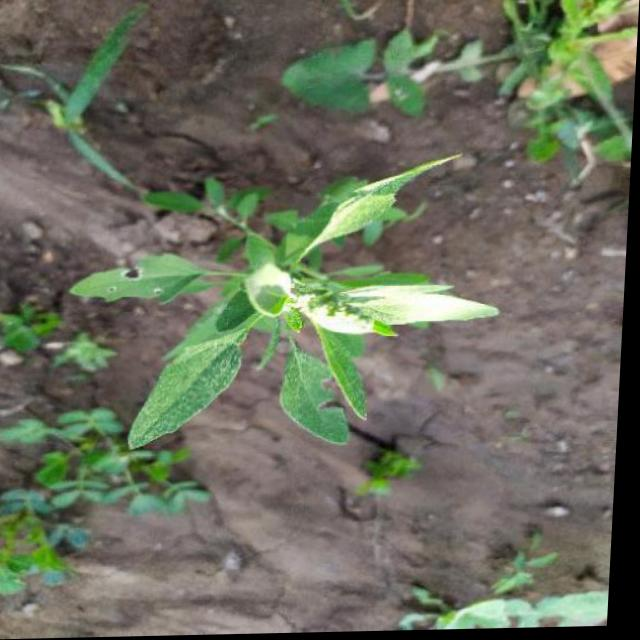weed: (0, 144, 498, 451), (378, 0, 639, 188), (0, 437, 222, 597)
